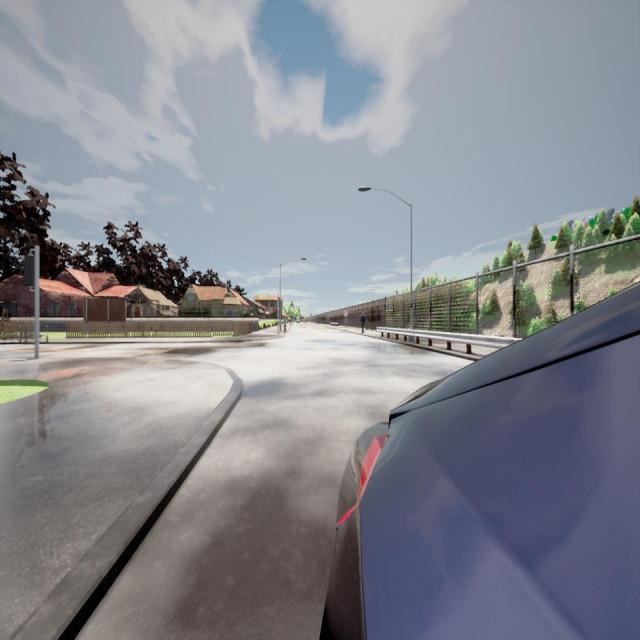Pedestrian: (360, 311, 366, 333)
Traffic_Signs: (344, 310, 347, 316)
Vehicle: (322, 285, 639, 640), (295, 317, 301, 324)
traffic_light: (23, 255, 34, 286)
